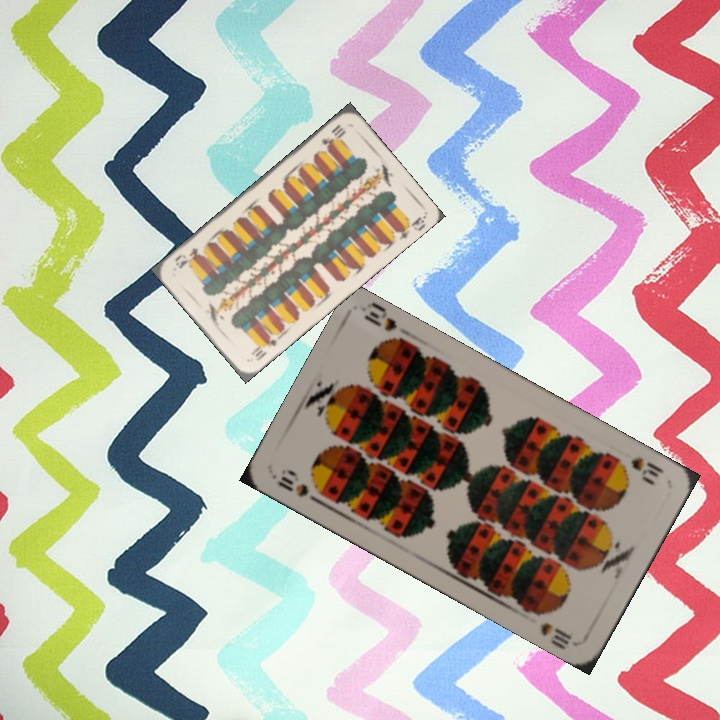E10: (317, 120, 349, 154), (247, 332, 280, 364)
S10: (612, 453, 666, 488), (274, 465, 311, 500)
